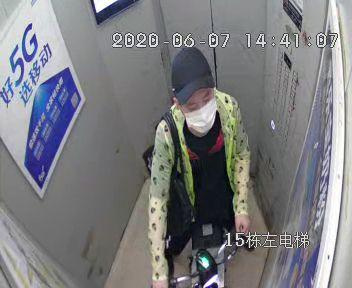Electric-bicycle: (167, 218, 247, 287)
